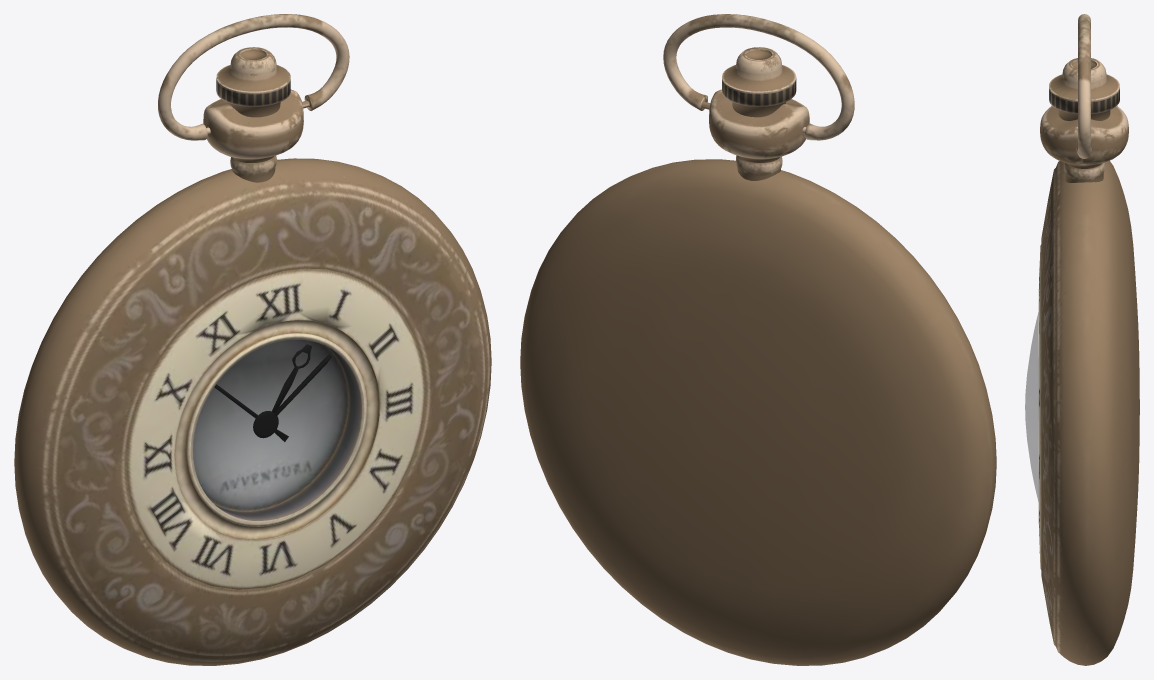
File: vintage_pocket_watch.glb
3 views of the same model, side by side, from view 1: azimuth 30°, elevation 25°; view 2: azimuth 150°, elevation 25°; view 3: azimuth 270°, elevation 25° (orthographic). The views are drawn at different scales.
Parts seen in each view (by area): view 1: vintage_pocket_watch; view 2: vintage_pocket_watch; view 3: vintage_pocket_watch.
Boxes of the visible parts, x1,y1,x2,y2 form: vintage_pocket_watch: (14,14,491,665); vintage_pocket_watch: (520,14,996,665); vintage_pocket_watch: (1025,14,1139,665).
Size of the model in its own units: 0.0613 by 0.0799 by 0.0136.
Materials: 3 (1 with a texture image).
